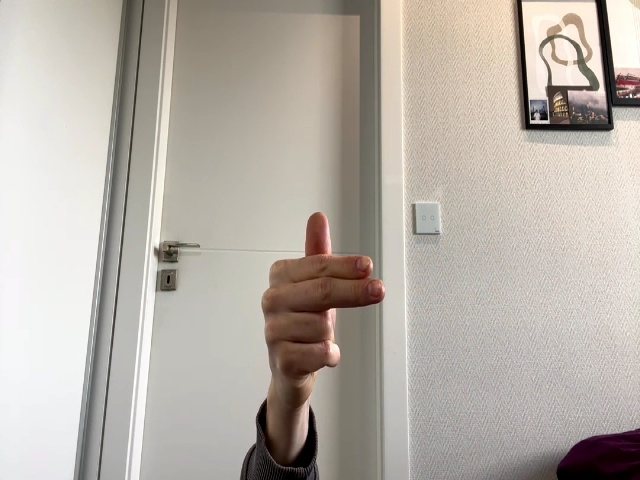N: (260, 212, 385, 372)
